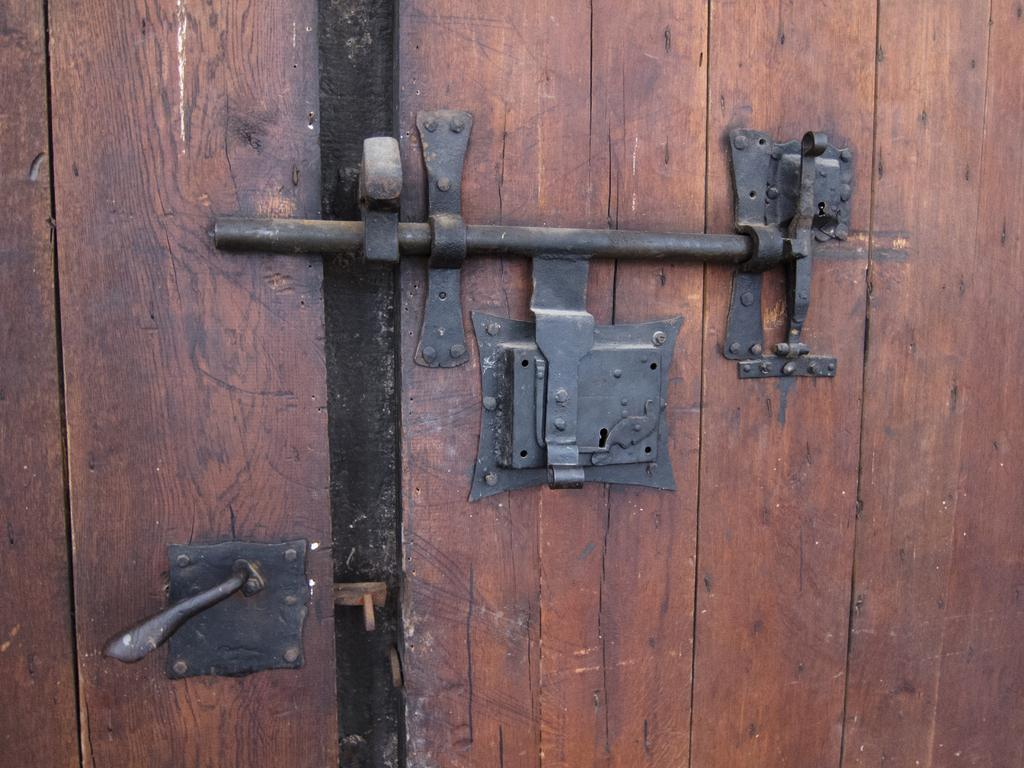door: (398, 9, 1024, 768), (18, 16, 344, 768)
handle: (115, 548, 252, 678)
